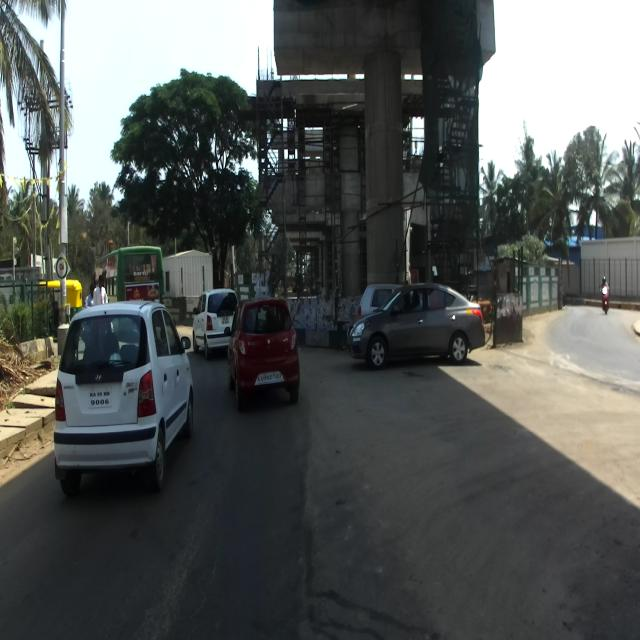car ahead at: (51, 310, 193, 492), (352, 274, 488, 371), (233, 290, 299, 412)
